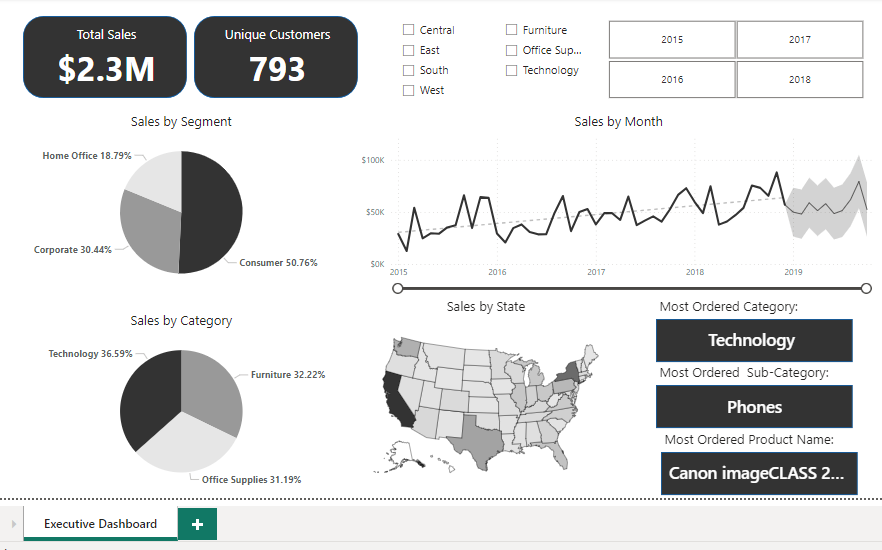

The dashboard page shown, as its layout file describes it:
{"tool":"powerbi","page":{"name":"Executive Dashboard","canvas":[1280,720],"ordinal":0},"visuals":[{"type":"group","id":"g1","title":"Total sales","box":[40.3,25.9,236.2,118.1],"z":0},{"type":"shape","box":[40.3,25.9,236.2,118.1],"z":0,"group":"g1"},{"type":"shape","box":[286.6,25.9,236.2,118.1],"z":0,"group":"g2"},{"type":"shape","box":[952.3,461.6,283.1,61.5],"z":0,"group":"g3"},{"type":"shape","box":[952.3,556.9,283.1,61.5],"z":0,"group":"g4"},{"type":"shape","box":[958.5,653.9,283.1,61.5],"z":0,"group":"g5"},{"type":"group","id":"g2","title":"Uniques Customers","box":[286.6,25.9,236.2,118.1],"z":1000},{"type":"card","title":"Total Sales","fields":{"Values":["train.Total Sales"]},"box":[55.7,39,208.8,96.5],"z":1000,"group":"g1"},{"type":"card","title":"Unique Customers","fields":{"Values":["train.Unique Customers"]},"box":[302,39,208.8,96.5],"z":1000,"group":"g2"},{"type":"card","fields":{"Values":["Min(train.Category)"]},"box":[952.3,461.6,275.4,61.5],"z":1000,"group":"g3"},{"type":"card","fields":{"Values":["Min(train.Sub-Category)"]},"box":[956.4,559.1,275.4,61.5],"z":1000,"group":"g4"},{"type":"card","fields":{"Values":["Min(train.Product Name)"]},"box":[958.5,653.9,275.4,61.5],"z":1000,"group":"g5"},{"type":"pieChart","title":"Sales by Segment","fields":{"Y":["Sum(train.Sales)"],"Series":["train.Segment"]},"box":[40,164.3,455.7,264.3],"z":2000},{"type":"textbox","box":[952.3,426.2,283.1,47.7],"z":2000,"group":"g3"},{"type":"textbox","box":[952.3,521.5,283.1,47.7],"z":2000,"group":"g4"},{"type":"textbox","box":[958.5,618.5,283.1,47.7],"z":2000,"group":"g5"},{"type":"pieChart","title":"Sales by Category","fields":{"Y":["Sum(train.Sales)"],"Series":["train.Category"]},"box":[40,451.4,455.7,264.3],"z":3000},{"type":"lineChart","title":"Sales by Month","fields":{"Y":["train.Total Sales"],"Category":["train.Order Date.Variation.Date Hierarchy.Year","train.Order Date.Variation.Date Hierarchy.Quarter","train.Order Date.Variation.Date Hierarchy.Month","train.Order Date.Variation.Date Hierarchy.Day"]},"box":[523.1,164.6,750.8,264.6],"z":4000},{"type":"shapeMap","title":"Sales by State","fields":{"Category":["train.State"],"Value":["train.Total Sales"]},"box":[522.9,430,368.6,285.7],"z":5000},{"type":"slicer","title":"Region","fields":{"Values":["train.Region"]},"box":[574.6,25.9,128.2,125.3],"z":6000},{"type":"slicer","fields":{"Values":["train.Category"]},"box":[722.9,25.9,135.4,125.3],"z":7000},{"type":"slicer","fields":{"Values":["train.Order Date.Variation.Date Hierarchy.Year"]},"box":[858.2,25.9,416.2,125.3],"z":8000},{"type":"group","id":"g3","title":"Most Ordered Category","box":[952.3,426.2,283.1,96.9],"z":9000},{"type":"group","id":"g4","title":"Most Ordered Category","box":[952.3,521.5,283.1,99.2],"z":10000},{"type":"group","id":"g5","title":"Most Ordered Category","box":[958.5,618.5,283.1,96.9],"z":11000}]}

Visuals, with their boxes on the page's 1280x720 design canvas (x1, y1, x2, y2). These are canvas units, not pixel positions in the 882x550 screenshot, which may show the page scaled, cropped or inside an application window:
"Total sales" group: (left=40, top=26, right=276, bottom=144)
shape: (left=40, top=26, right=276, bottom=144)
shape: (left=287, top=26, right=523, bottom=144)
shape: (left=952, top=462, right=1235, bottom=523)
shape: (left=952, top=557, right=1235, bottom=618)
shape: (left=958, top=654, right=1242, bottom=715)
"Uniques Customers" group: (left=287, top=26, right=523, bottom=144)
"Total Sales" card: (left=56, top=39, right=264, bottom=136)
"Unique Customers" card: (left=302, top=39, right=511, bottom=136)
card - Min(train.Category): (left=952, top=462, right=1228, bottom=523)
card - Min(train.Sub-Category): (left=956, top=559, right=1232, bottom=621)
card - Min(train.Product Name): (left=958, top=654, right=1234, bottom=715)
"Sales by Segment" pieChart: (left=40, top=164, right=496, bottom=429)
textbox: (left=952, top=426, right=1235, bottom=474)
textbox: (left=952, top=522, right=1235, bottom=569)
textbox: (left=958, top=618, right=1242, bottom=666)
"Sales by Category" pieChart: (left=40, top=451, right=496, bottom=716)
"Sales by Month" lineChart: (left=523, top=165, right=1274, bottom=429)
"Sales by State" shapeMap: (left=523, top=430, right=892, bottom=716)
"Region" slicer: (left=575, top=26, right=703, bottom=151)
slicer - train.Category: (left=723, top=26, right=858, bottom=151)
slicer - train.Order Date.Variation.Date Hierarchy.Year: (left=858, top=26, right=1274, bottom=151)
"Most Ordered Category" group: (left=952, top=426, right=1235, bottom=523)
"Most Ordered Category" group: (left=952, top=522, right=1235, bottom=621)
"Most Ordered Category" group: (left=958, top=618, right=1242, bottom=715)
